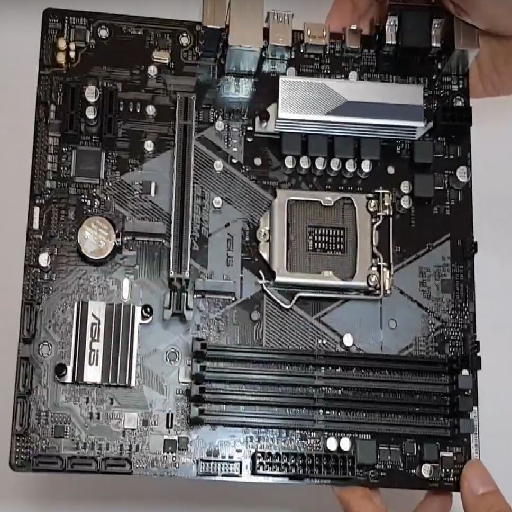CPU: (258, 187, 395, 294)
GPU: (163, 92, 198, 319)
MOTHERBOARD: (11, 8, 481, 493)
RAM: (187, 337, 474, 441)
SSD: (122, 217, 166, 242), (193, 279, 238, 299)
